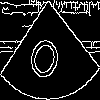O: (25, 25, 68, 86)
